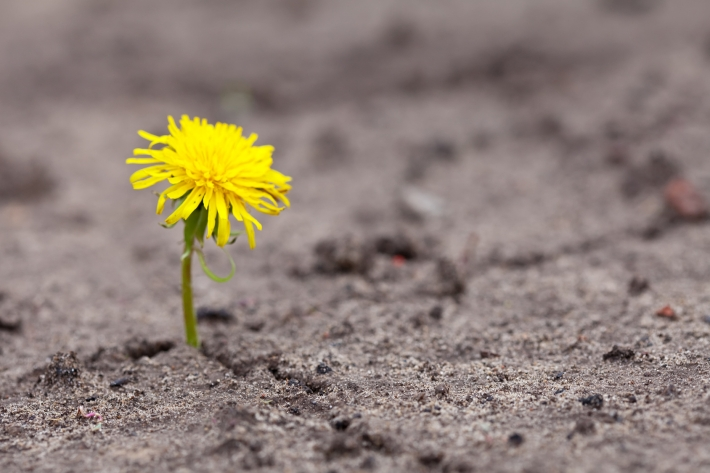dandelion: (118, 107, 298, 233)
